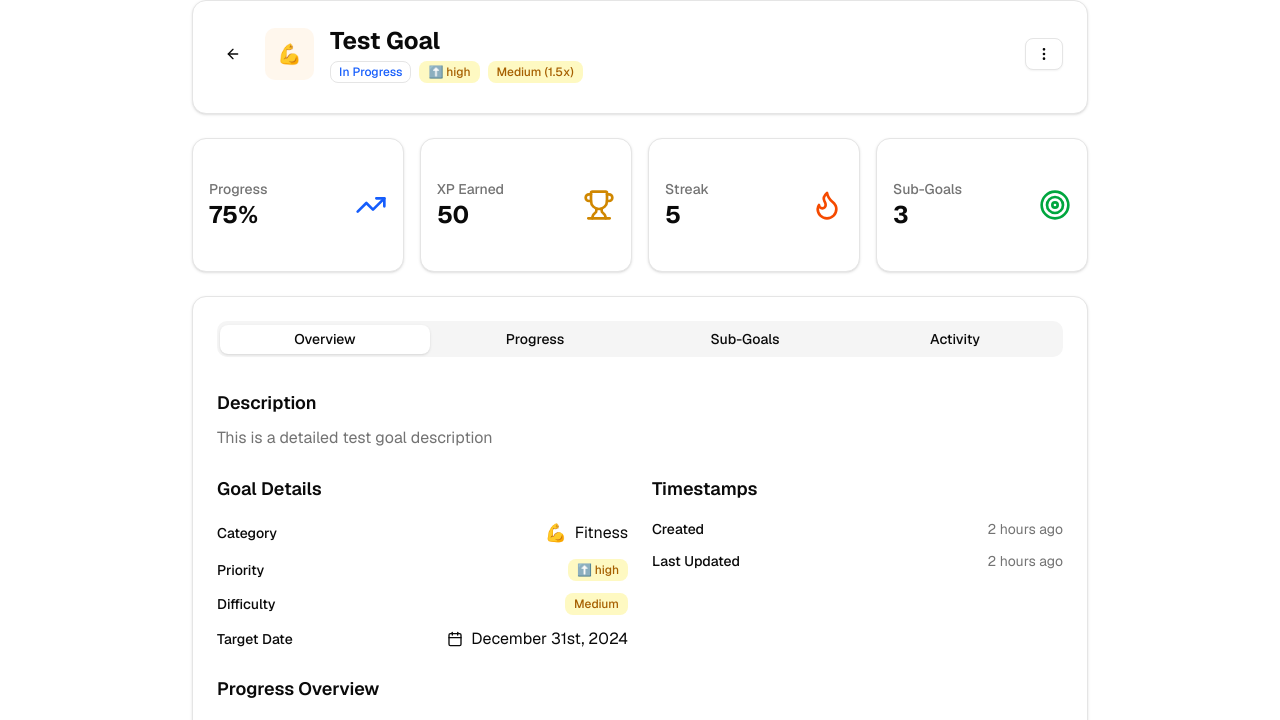
Test: GoalDetail Component › Dropdown Menu Actions › should show all menu options for incomplete goal
Click the 2nd button named "More actions".
click(1044, 54)  # box [1025,38,1063,70]
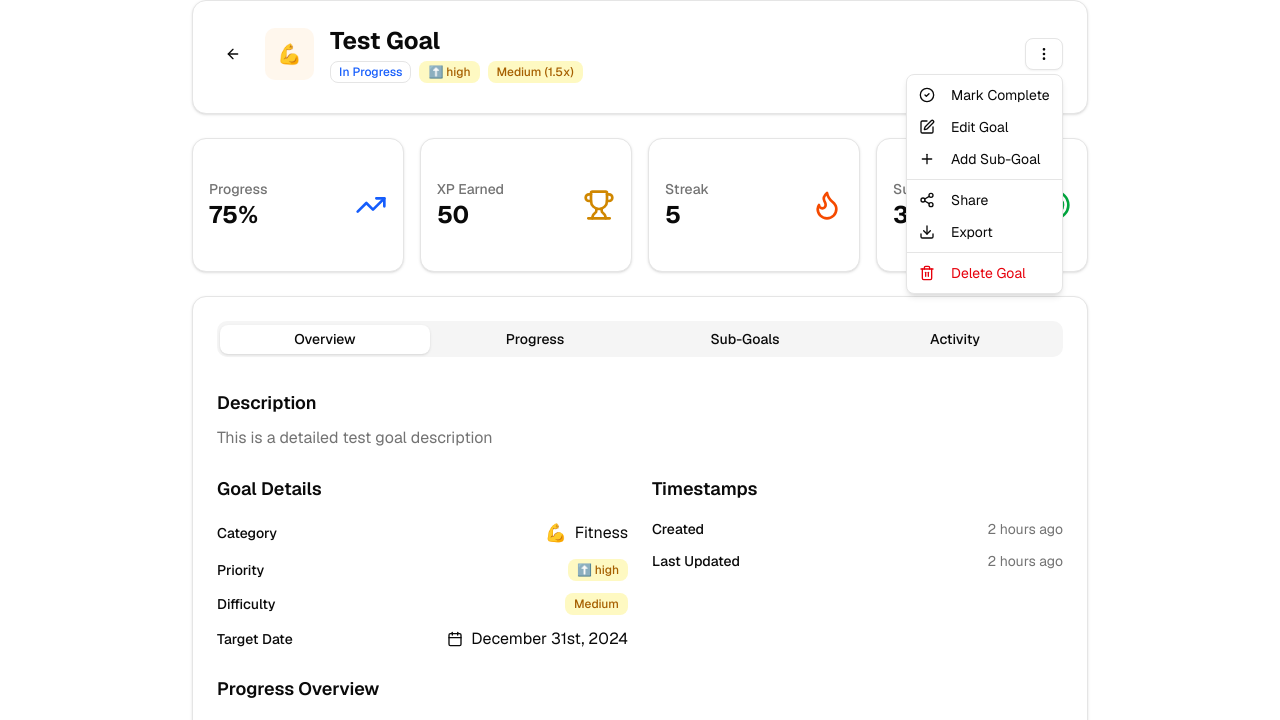
Result: the menu item "Mark Complete" is shown at [919,86,1050,104]
Result: the menu item "Edit Goal" is shown at [919,118,1008,136]
Result: the menu item "Add Sub-Goal" is shown at [919,150,1040,168]
